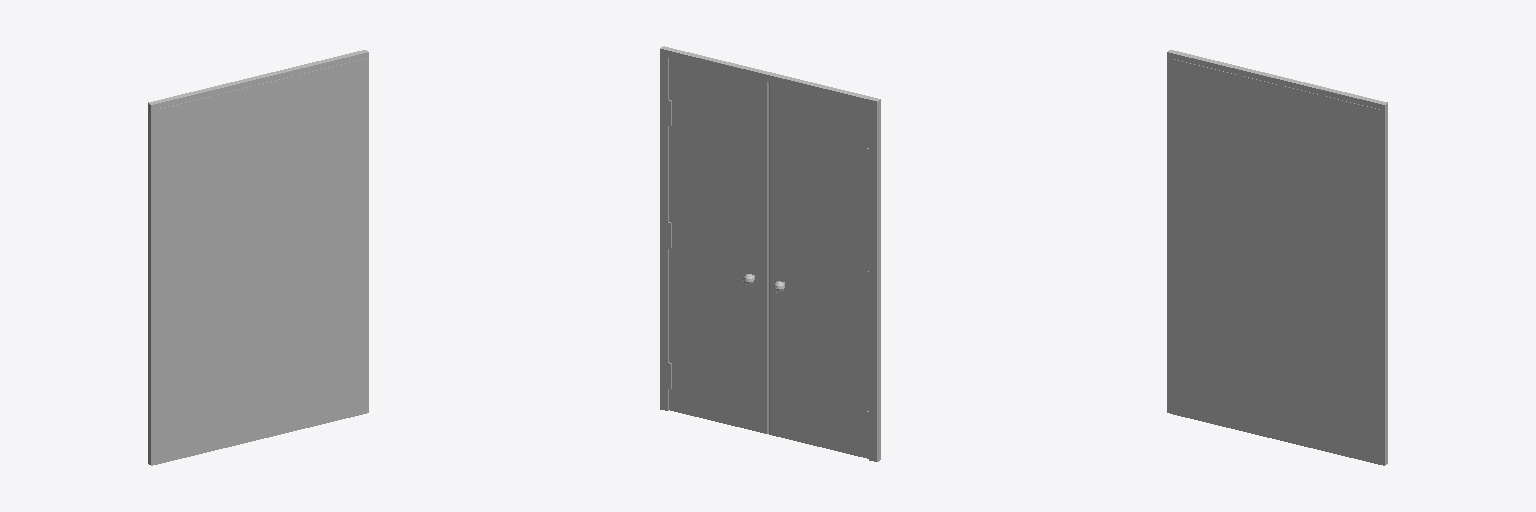
The model's file is cupboard.obj.
3 renders of one model, left to right at view 1: azimuth 30°, elevation 25°; view 2: azimuth 150°, elevation 25°; view 3: azimuth 330°, elevation 25°, orthographic.
Parts seen in each view (by area): view 1: Cube.011, Cube.010; view 2: Cube.011, Cube.010, Sphere.002; view 3: Cube.011, Cube.010.
Part boxes in pixels (x1,y1,x2,y2): Cube.011: (157, 58, 366, 464); Cube.010: (148, 50, 368, 465); Cube.011: (669, 58, 868, 458); Cube.010: (660, 46, 880, 461); Sphere.002: (668, 100, 868, 437); Cube.011: (1172, 59, 1381, 464); Cube.010: (1167, 50, 1387, 465).
Bounding box in the file's own units: 2.08 × 3.29 × 0.1425.